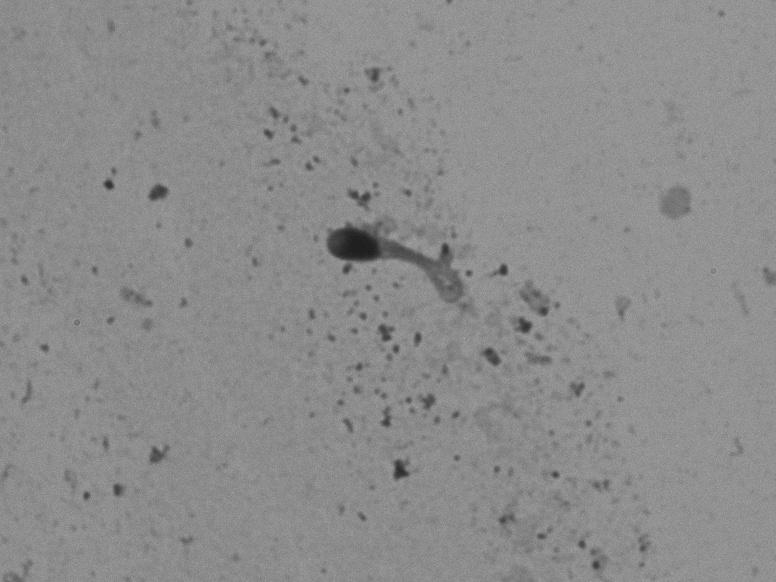Abnormal: (309, 196, 505, 328)
